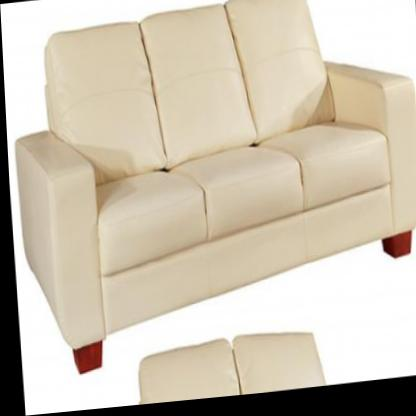Sofa: (5, 0, 416, 380)
